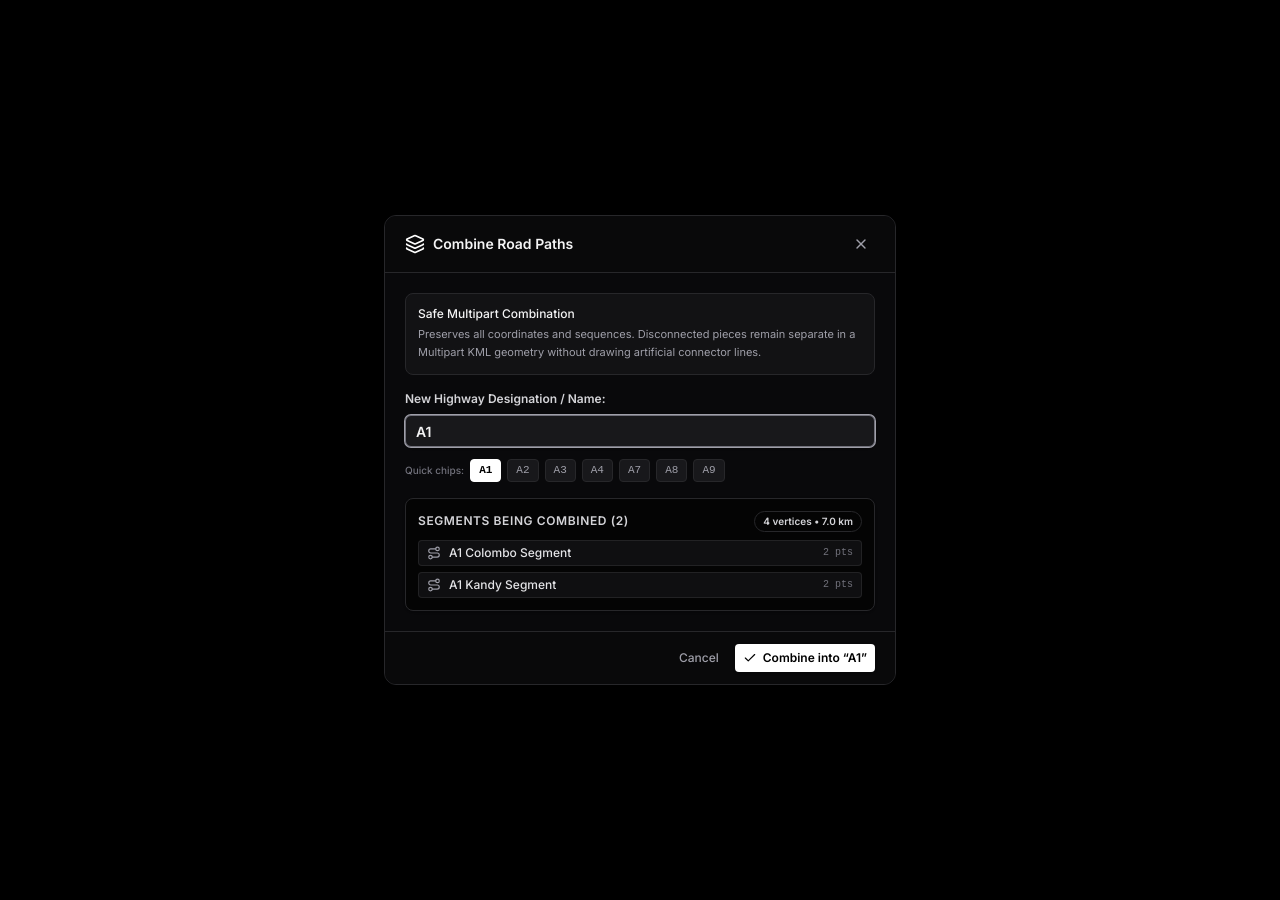
Test: CombineModal › warns when entered name duplicates an existing feature name
Replace the text in the field with test id "combine-name-input" with "A2" at (640, 431), box [405, 415, 875, 447]
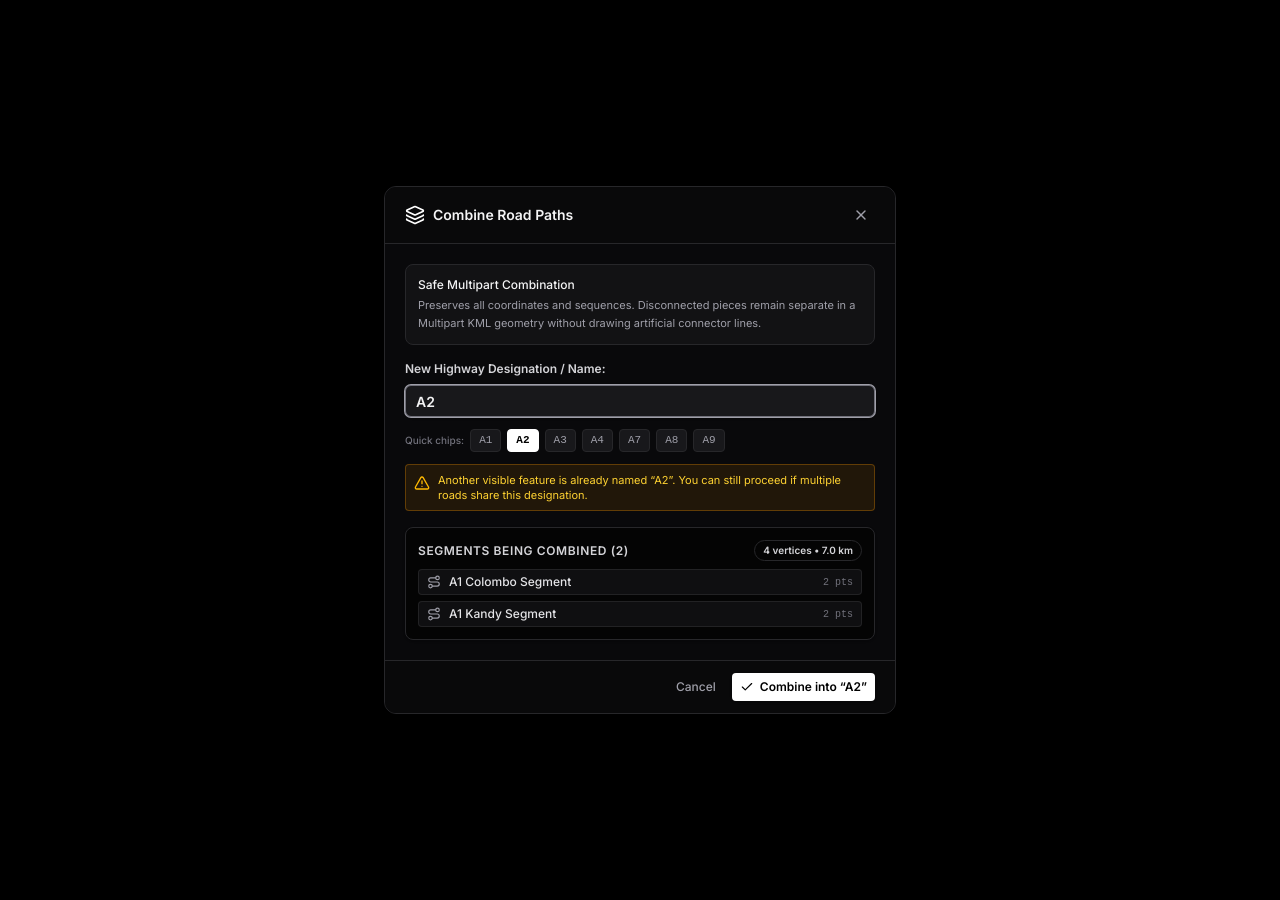
Expected: the element with test id "duplicate-name-warning" is shown, [405, 464, 875, 511]
